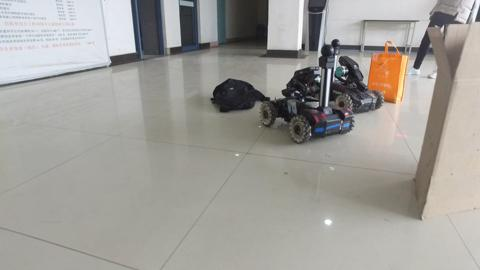bag: (369, 39, 404, 106)
chariot: (261, 45, 353, 143), (335, 37, 380, 110)
